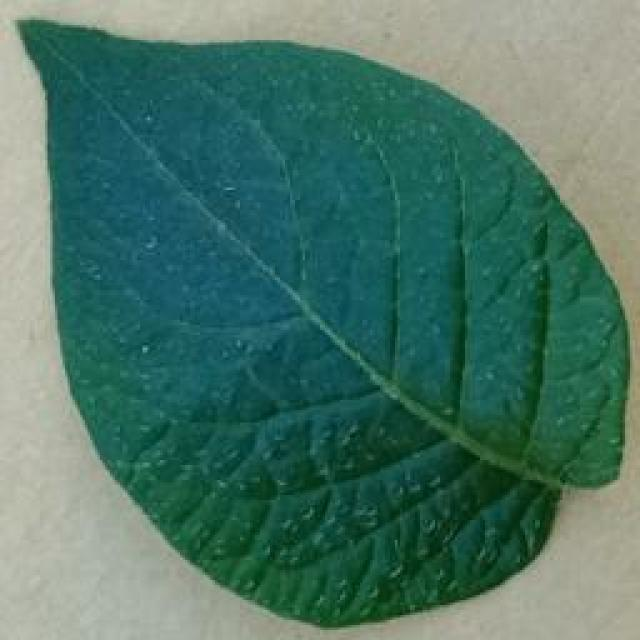Potato_Healthy: (12, 19, 620, 630)
